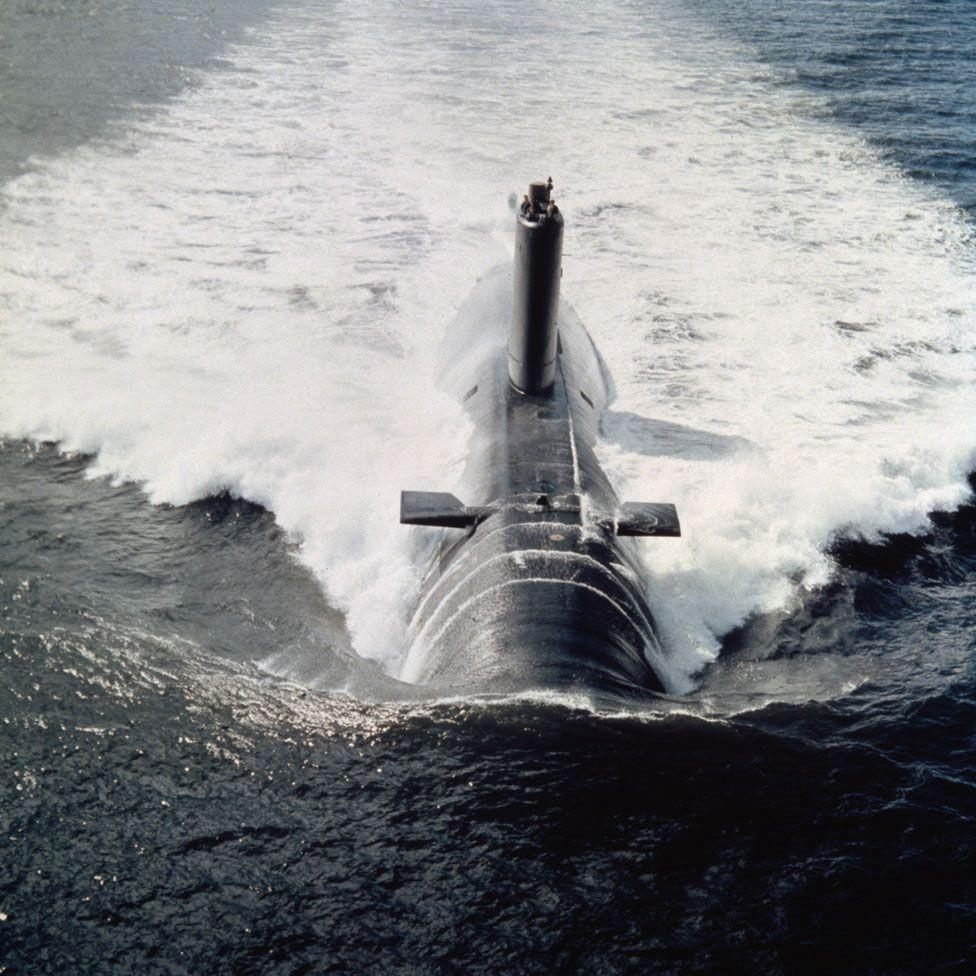Submarine: (275, 110, 820, 793)
